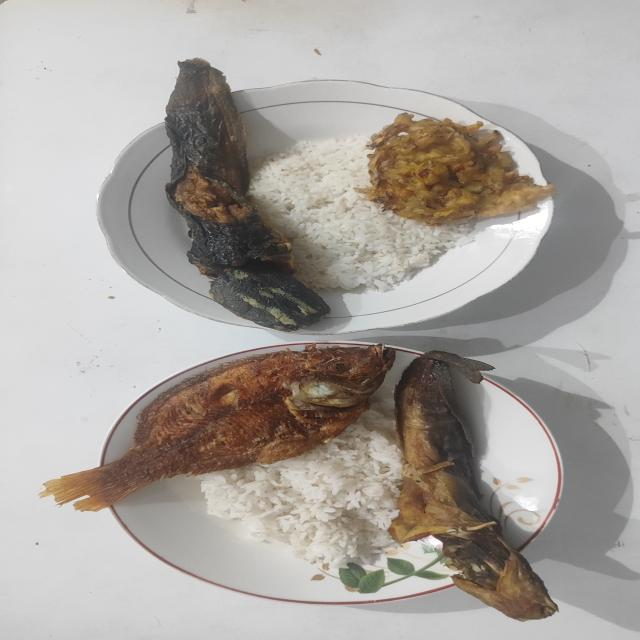ikan_mujair: (39, 344, 396, 512)
nasi_putih: (250, 134, 475, 292), (198, 399, 402, 570)
